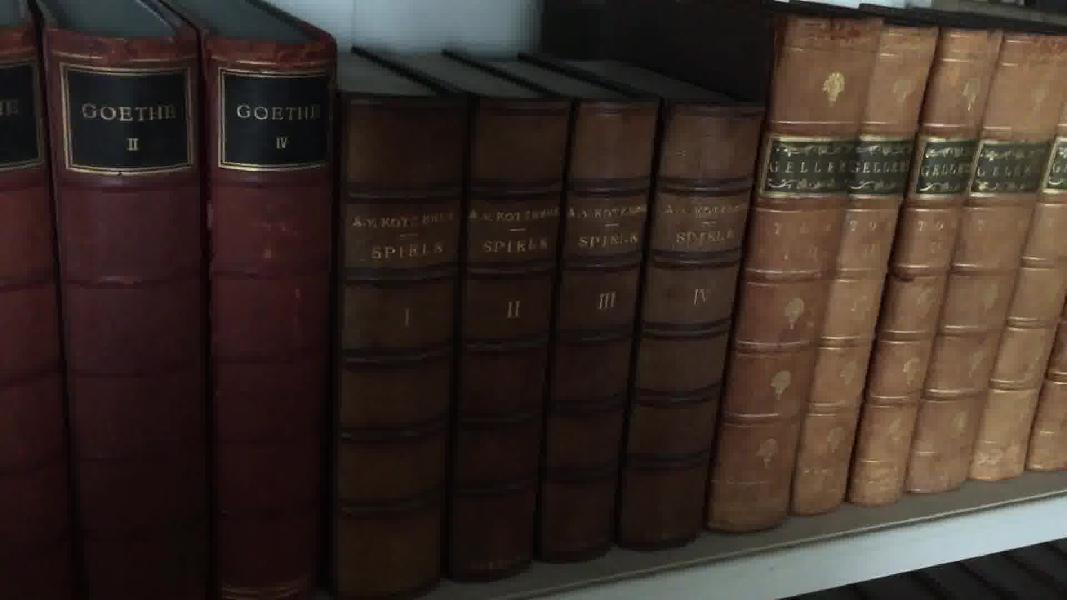Aa6-14_17: (329, 81, 772, 600)
Aa6-18_23: (711, 23, 1067, 543)
